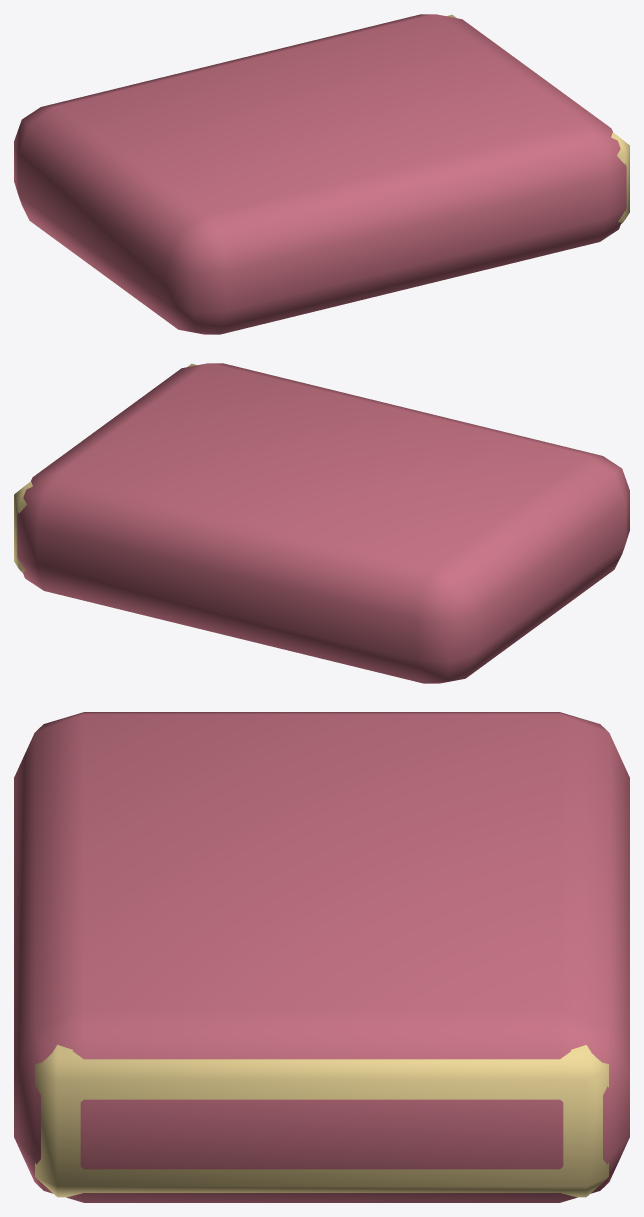
The model's file is book.glb.
3 renders of one model, top to bottom at view 1: azimuth 30°, elevation 25°; view 2: azimuth 150°, elevation 25°; view 3: azimuth 270°, elevation 25°, orthographic. The views are drawn at different scales.
Visible parts, largest first — view 1: book; view 2: book; view 3: book.
Part boxes in pixels (left/top/right/bottom): book: left=14, top=14, right=629, bottom=334; book: left=14, top=363, right=629, bottom=683; book: left=14, top=712, right=629, bottom=1202.
Bounding box in the file's own units: 0.3 × 0.075 × 0.22.
